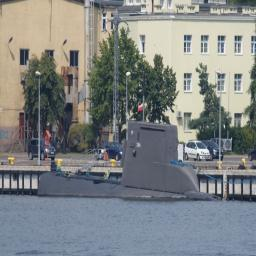submarine: (37, 117, 218, 202)
